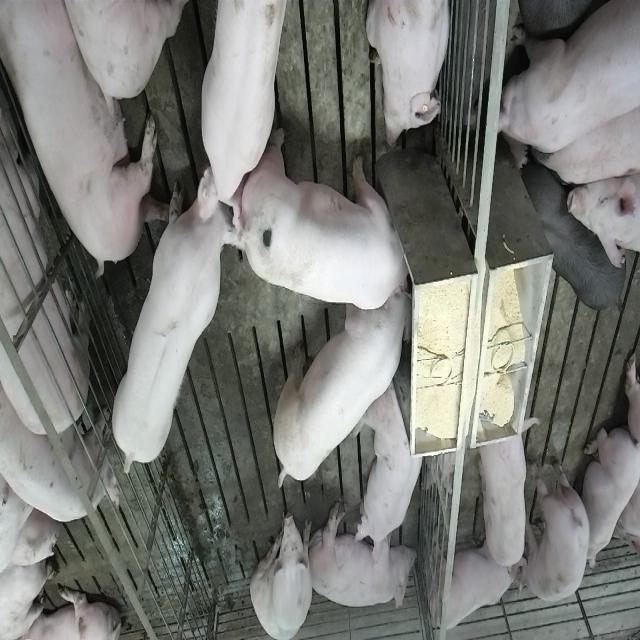Feeding: (243, 128, 419, 310), (268, 281, 411, 497)
Lateral_lying: (3, 0, 169, 276), (307, 498, 417, 612)
Sitting: (250, 503, 314, 638)
Standing: (111, 170, 245, 484), (0, 0, 91, 444), (496, 0, 638, 162), (198, 0, 290, 212), (520, 154, 634, 312), (0, 390, 117, 529), (521, 457, 593, 607), (476, 400, 536, 576)
Sternal_lying: (366, 0, 454, 150), (359, 381, 429, 559), (427, 534, 521, 634), (579, 426, 639, 570)
